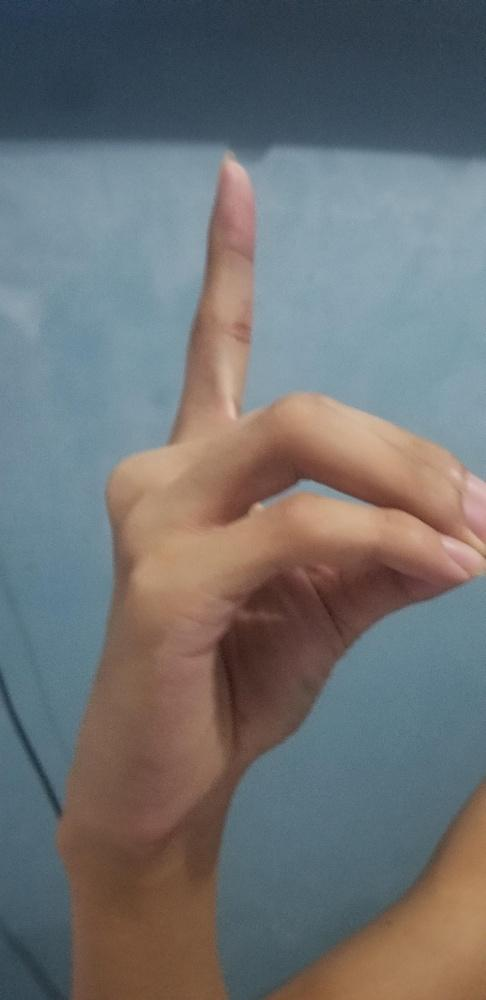d: (49, 142, 485, 871)
